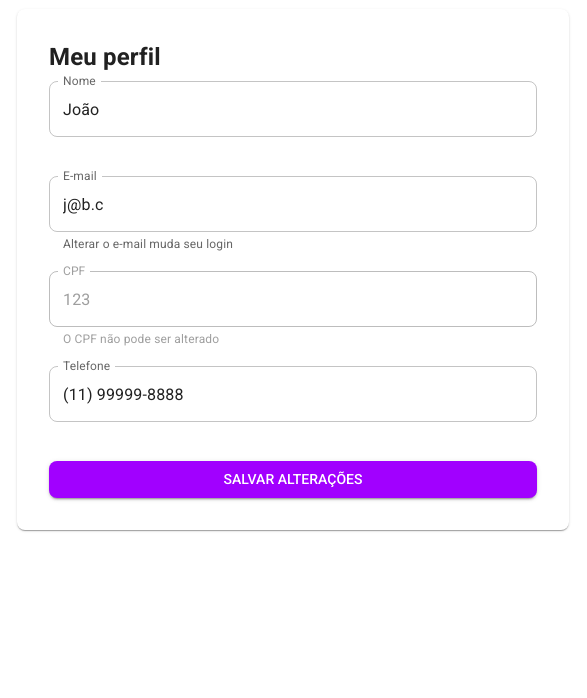
Test: Profile › renderiza dados e salva alterações com sucesso
The width and height of the screenshot is (587, 698).
Check: the field labelled "CPF" is disabled, box [49, 271, 537, 327]
Check: the field labelled "Telefone" holds "(11) 99999-8888", box [49, 366, 537, 422]
Replace the text in the field labelled "Nome" with "Maria" at point(293, 109), box [49, 81, 537, 137]
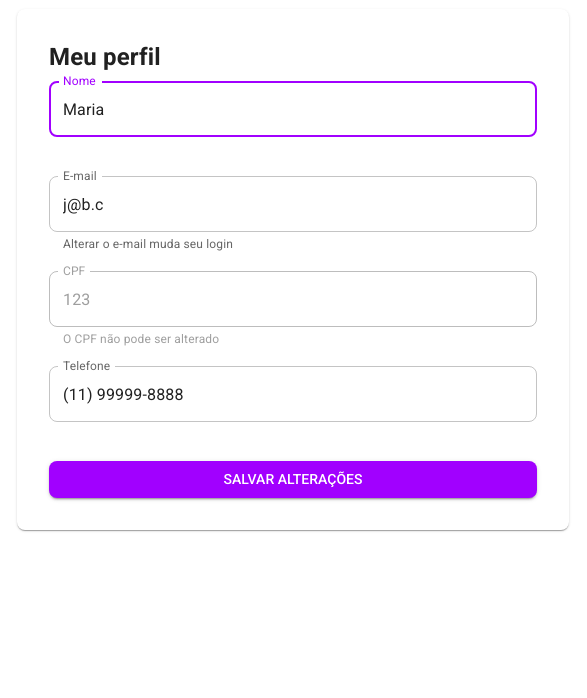
Click the button "Salvar alterações" at point(293, 479), box [49, 461, 537, 498]
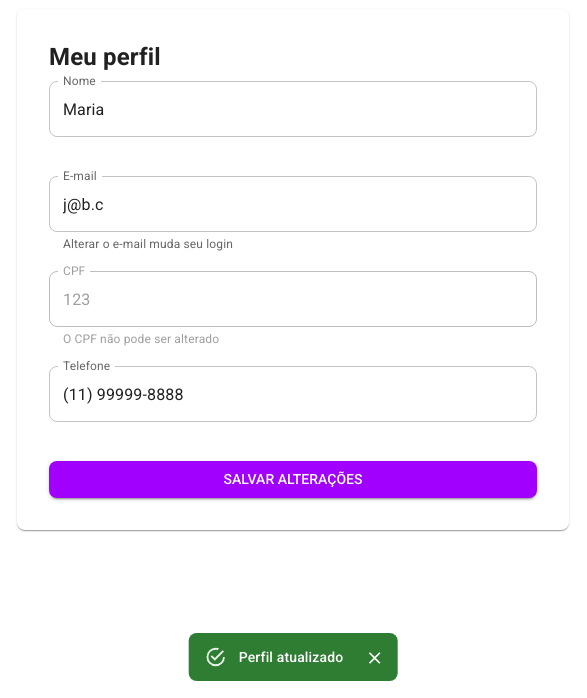
Check: the text "Perfil atualizado" is shown, box [239, 649, 343, 665]
